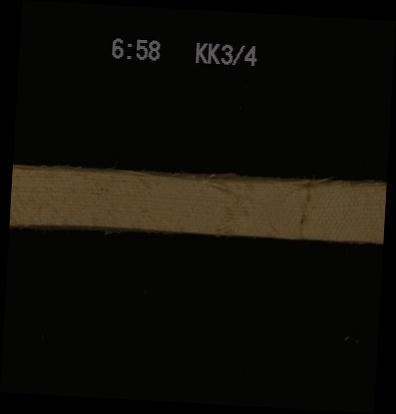small_knot: (290, 186, 327, 237)
